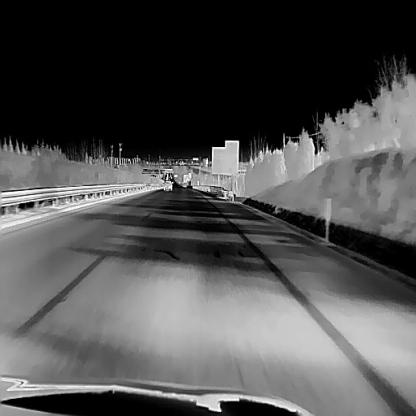car: (162, 180, 173, 190)
